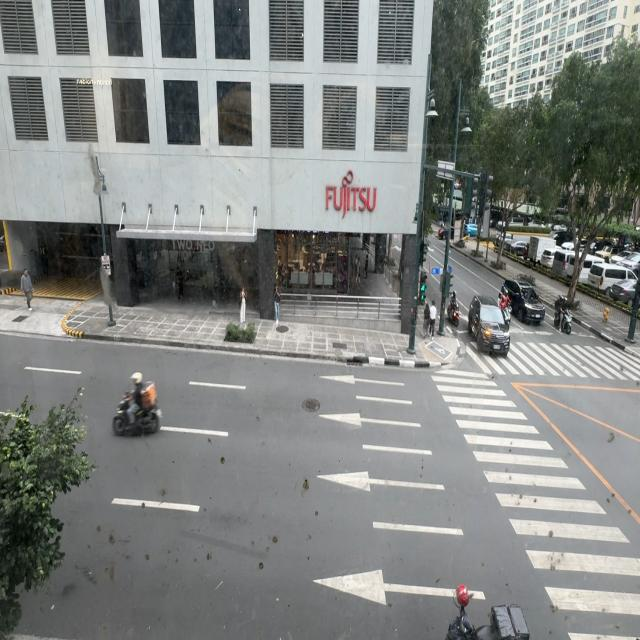jaywalking: (20, 268, 34, 312)
pedestrain: (273, 282, 281, 326), (429, 301, 437, 338), (423, 301, 431, 338), (430, 299, 437, 340), (239, 286, 246, 324)
